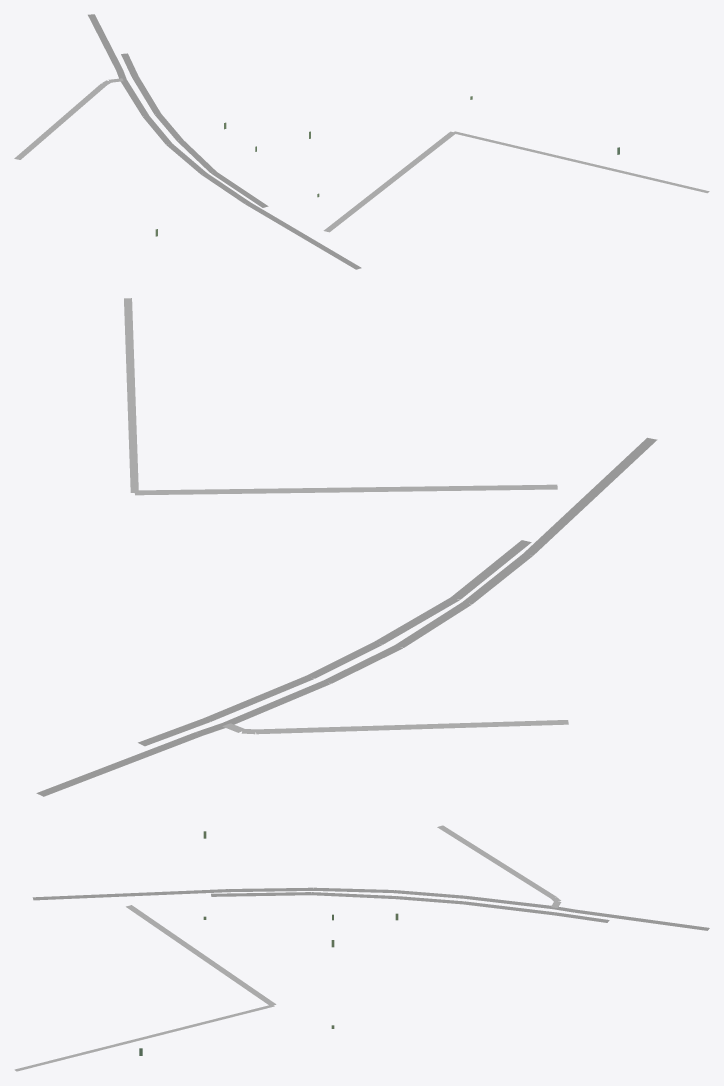
3 renders of one model, top to bottom at view 1: azimuth 30°, elevation 25°; view 2: azimuth 150°, elevation 25°; view 3: azimuth 270°, elevation 25°, orthographic. The views are drawn at different scales.
Bounding box in the file's own units: 545 × 8.58 × 652.
